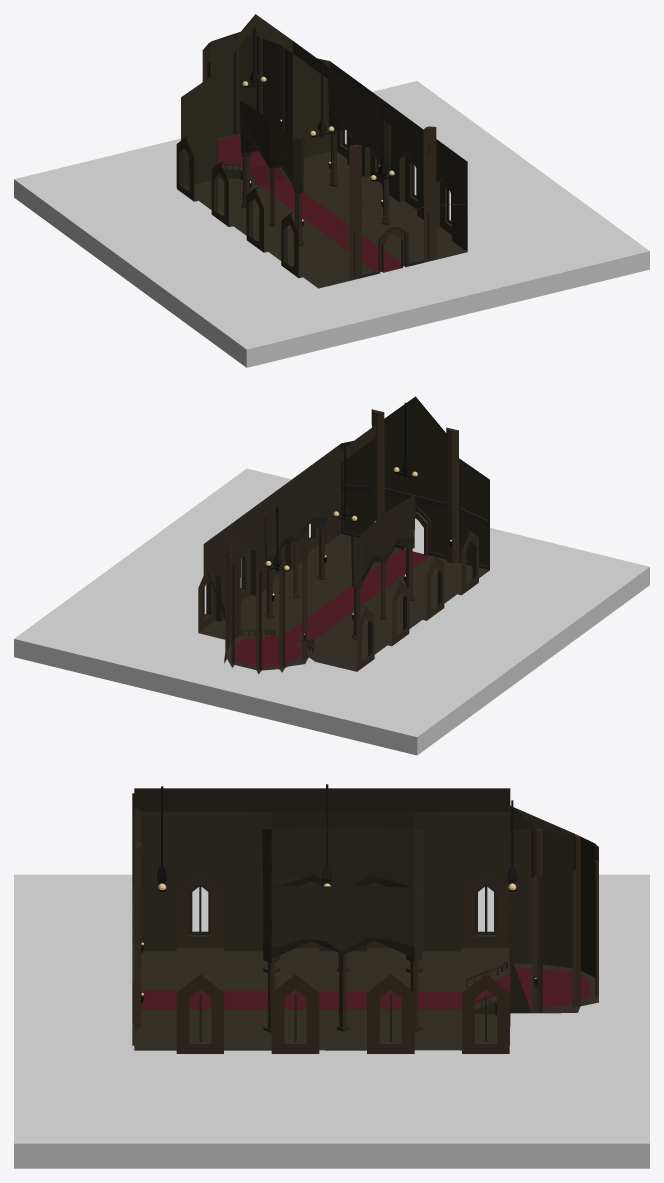
The model's file is blockoutkerk.fbx.
3 renders of one model, top to bottom at view 1: azimuth 30°, elevation 25°; view 2: azimuth 150°, elevation 25°; view 3: azimuth 270°, elevation 25°, orthographic. The views are drawn at different scales.
Parts seen in each view (by area): view 1: Cube, Cube.002, Chruch.004, Chruch.002, Chruch.003, Cube.004; view 2: Cube, Cube.002, Chruch.004, Chruch.002, Chruch.003, Cube.004; view 3: Cube, Cube.002, Chruch.004, Chruch.002, Chruch.003, Cube.004.
Boxes of the visible parts, x1,y1,x2,y2 form: Cube: (14, 81, 649, 367); Cube.002: (179, 14, 467, 288); Chruch.004: (176, 35, 451, 280); Chruch.002: (218, 136, 402, 272); Chruch.003: (179, 123, 466, 285); Cube.004: (242, 27, 395, 226); Cube: (14, 468, 649, 755); Cube.002: (198, 400, 489, 674); Chruch.004: (198, 409, 478, 671); Chruch.002: (234, 549, 430, 667); Chruch.003: (203, 396, 489, 657); Cube.004: (234, 402, 452, 640); Cube: (14, 874, 649, 1168); Cube.002: (132, 788, 598, 1050); Chruch.004: (134, 808, 598, 1053); Chruch.002: (141, 968, 590, 1010); Chruch.003: (132, 793, 513, 1045); Cube.004: (141, 784, 537, 1003).
Bounding box in the file's own units: 2650 × 1111 × 2650.
